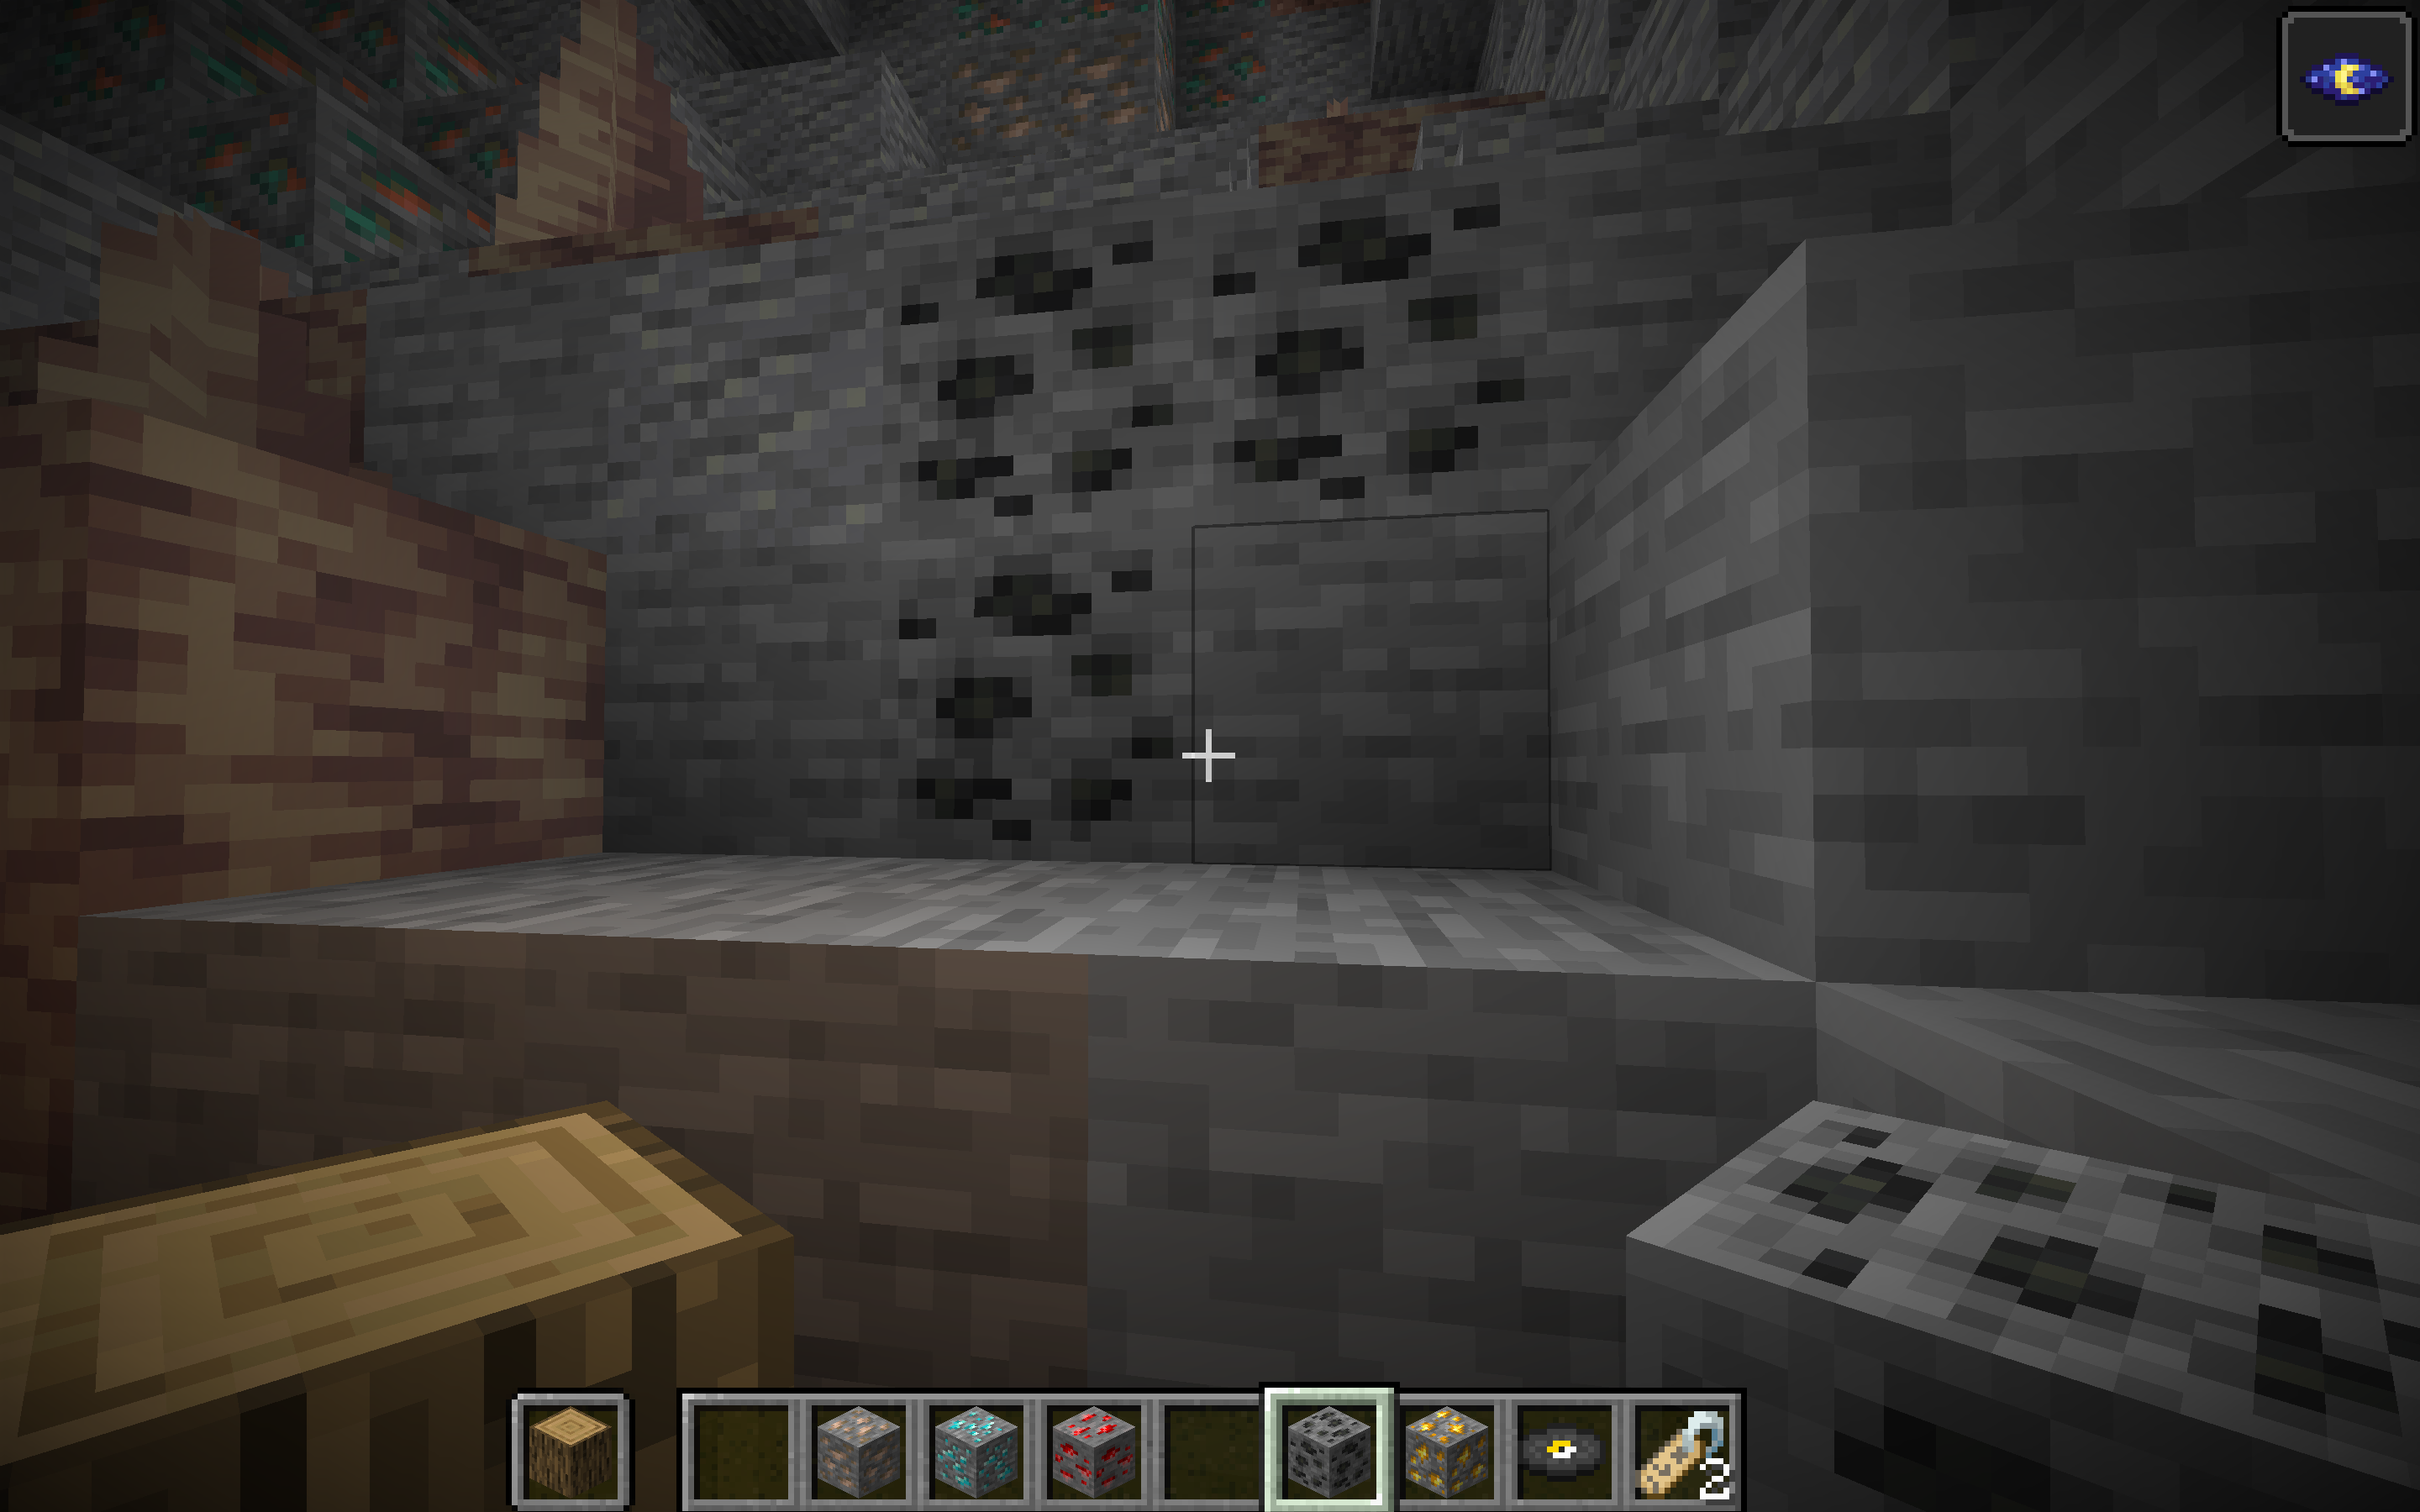coal: (390, 82, 1967, 1078)
